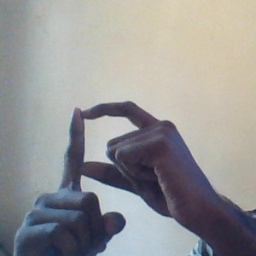D: (51, 94, 177, 225)
